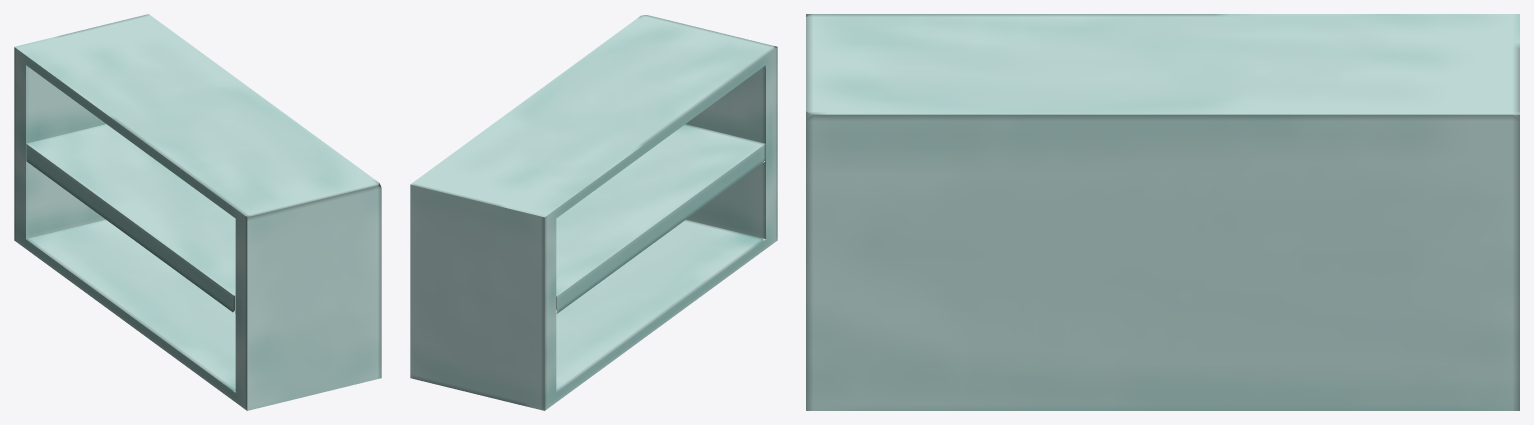
File: shelf1.fbx
The picture shows the model from 3 angles, left to right: view 1: azimuth 30°, elevation 25°; view 2: azimuth 150°, elevation 25°; view 3: azimuth 270°, elevation 25°; orthographic projection. The views are drawn at different scales.
Parts seen in each view (by area): view 1: cuboid, cuboid_1; view 2: cuboid, cuboid_1; view 3: cuboid.
Boxes of the visible parts, box(x1,y1,x2,y2) form: cuboid: box(14, 14, 381, 410); cuboid_1: box(26, 124, 235, 313); cuboid: box(410, 15, 777, 410); cuboid_1: box(556, 124, 765, 313); cuboid: box(806, 14, 1519, 410).
Size of the model in its own units: 100 by 138 by 300.
1 material, 1 textured.
